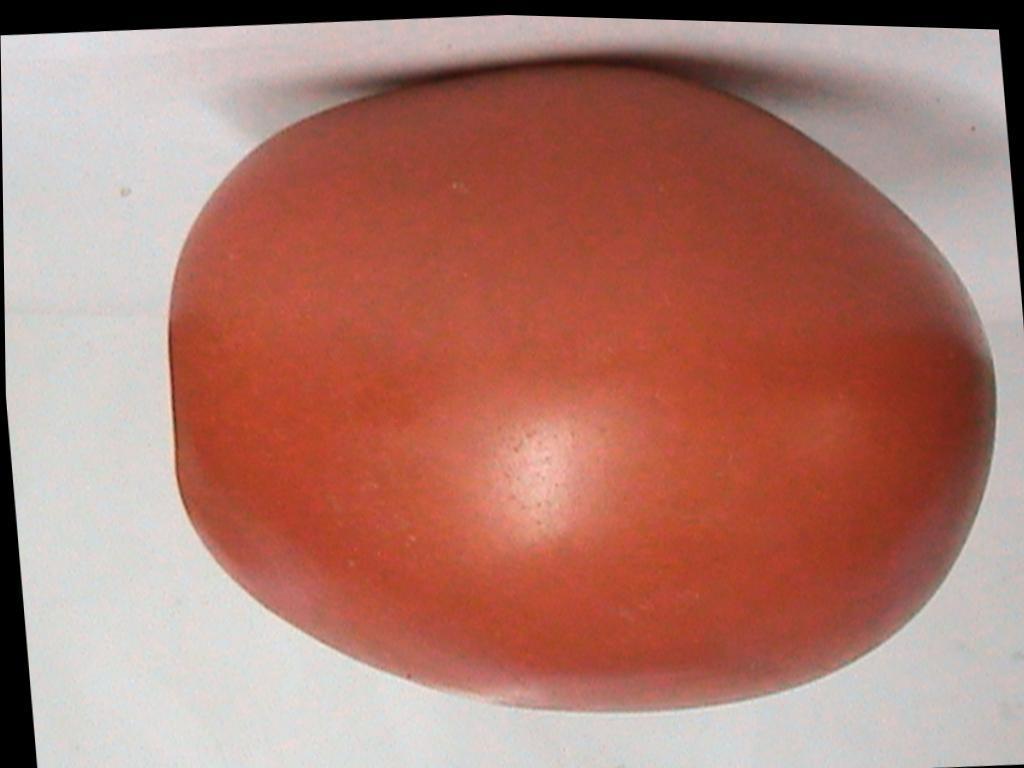tomato: (171, 67, 995, 709)
